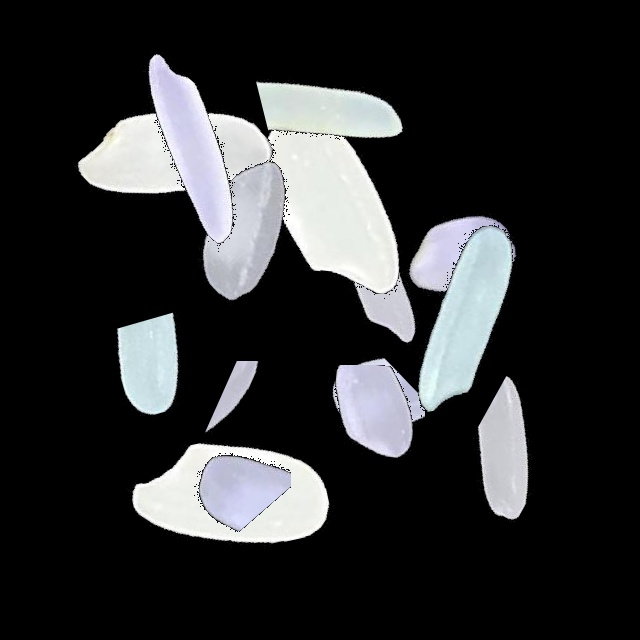Broken: (246, 365, 496, 529), (219, 18, 469, 180), (465, 346, 626, 596), (280, 304, 425, 554), (146, 328, 291, 578), (98, 258, 229, 508), (145, 361, 395, 467)
Full: (338, 132, 588, 382), (105, 368, 355, 618), (253, 150, 503, 400), (206, 74, 456, 324), (50, 34, 300, 284), (123, 103, 373, 353), (63, 25, 313, 275), (338, 191, 588, 441)
